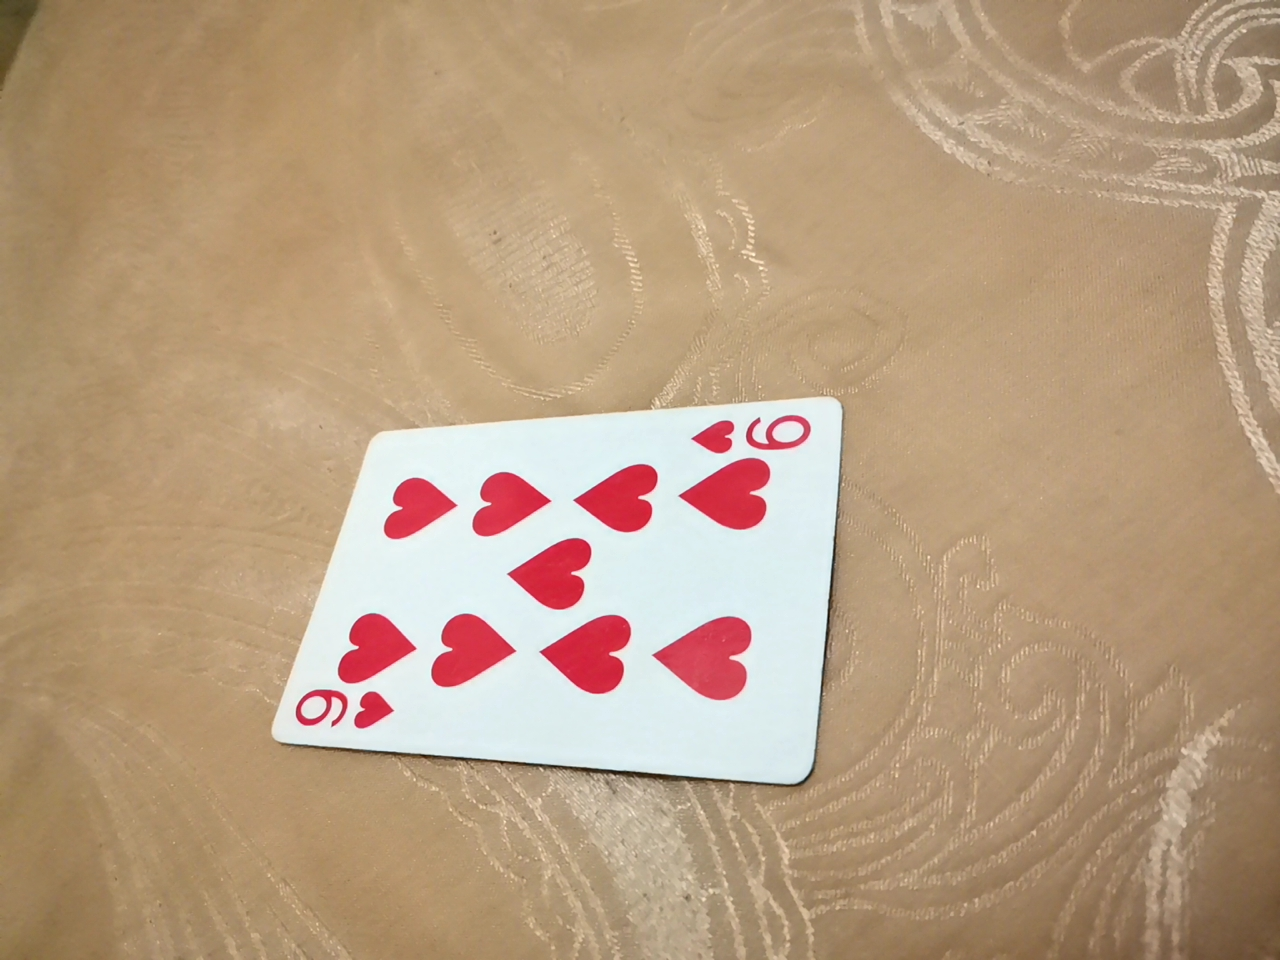hx 9: (324, 366, 861, 760)
